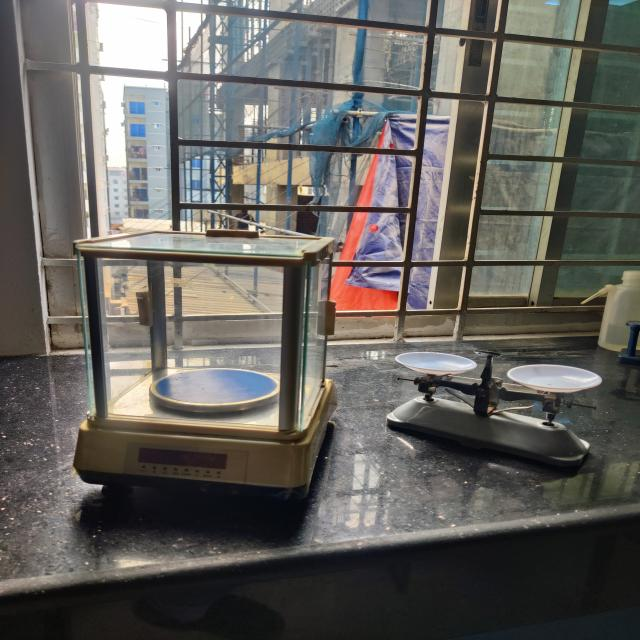Mechanical_Balance_Scale: (368, 314, 616, 490)
Precision_Weight_Scale: (9, 197, 362, 544)
